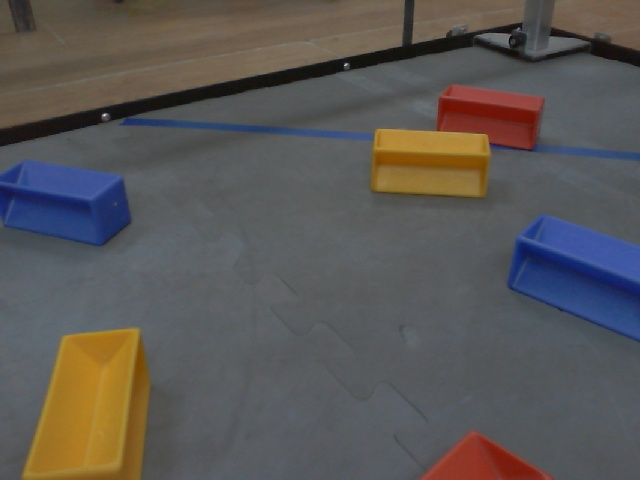BlueSample: (503, 209, 640, 343), (1, 154, 134, 250)
RedSample: (433, 78, 547, 154)
YellowSample: (19, 323, 154, 480), (370, 121, 491, 203)
